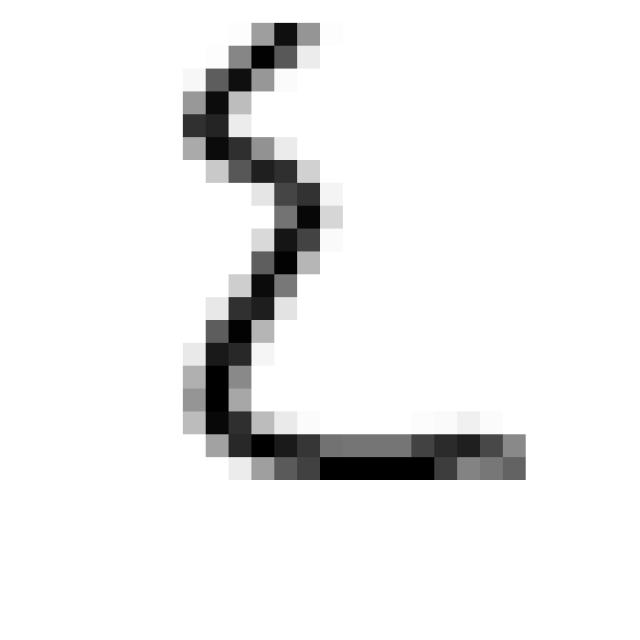4 -four-: (155, 5, 548, 507)
